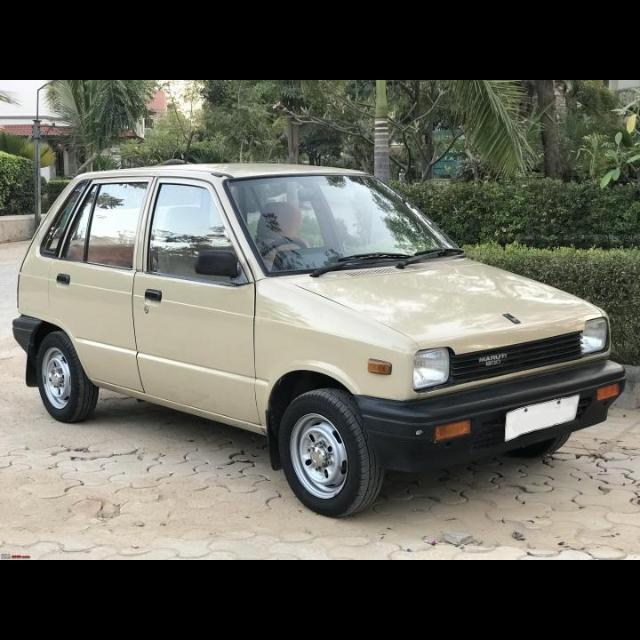vehicles: (13, 156, 640, 506)
